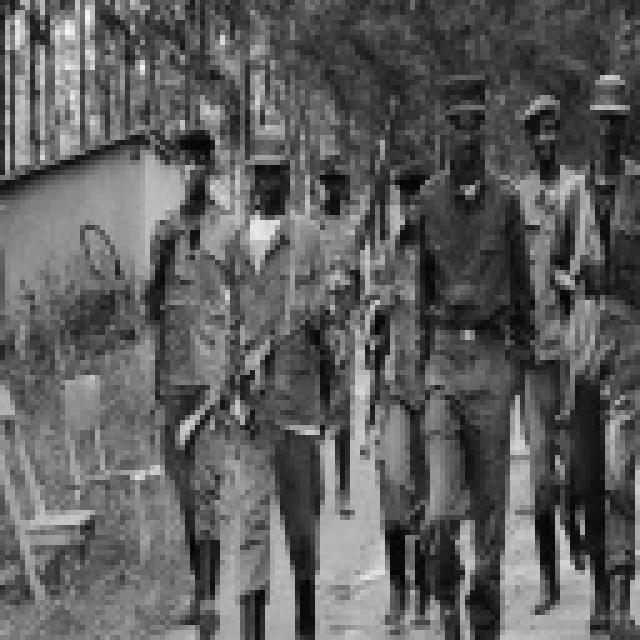Rifle: (161, 295, 343, 476)
